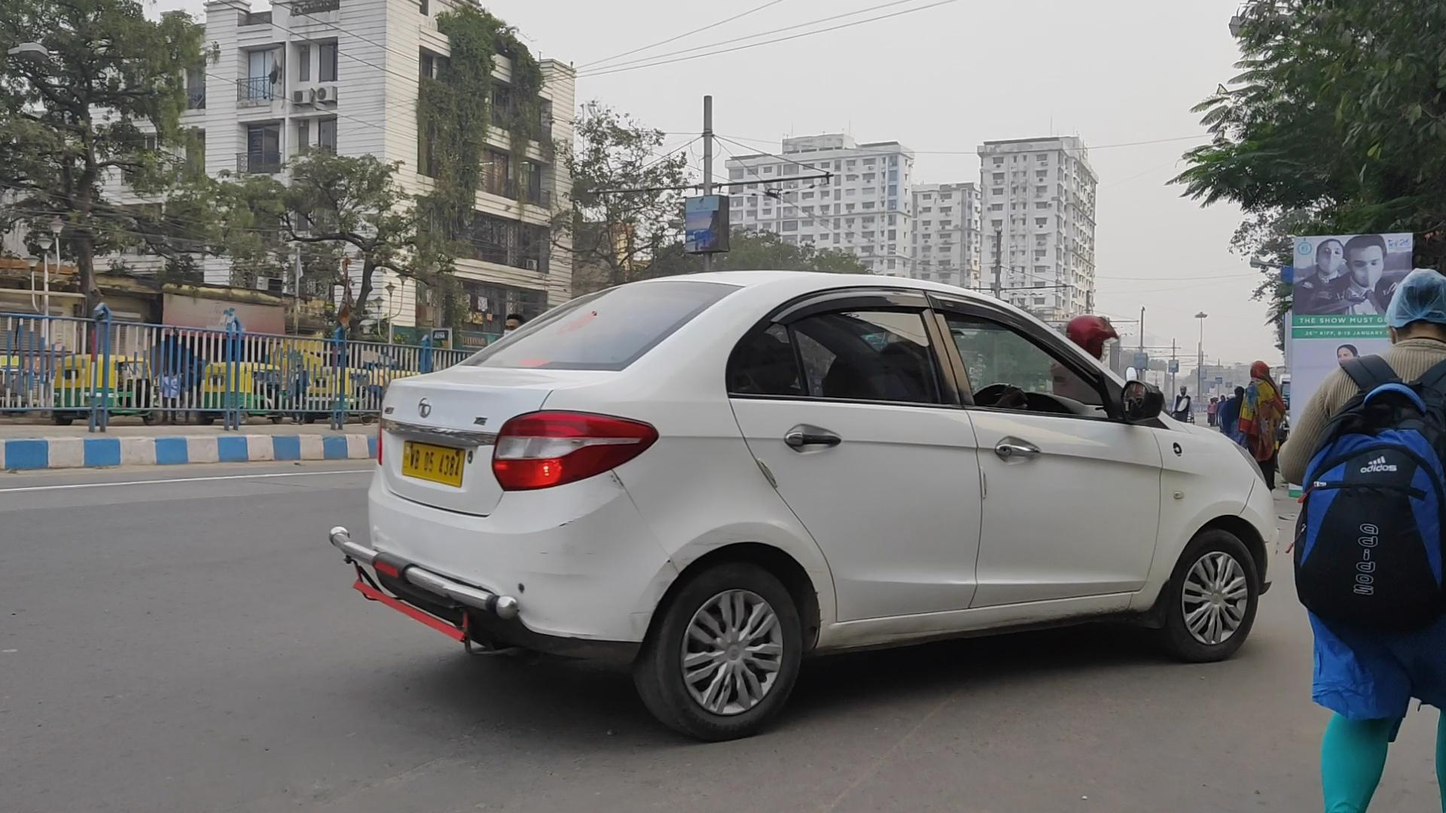car: (330, 269, 1280, 741)
